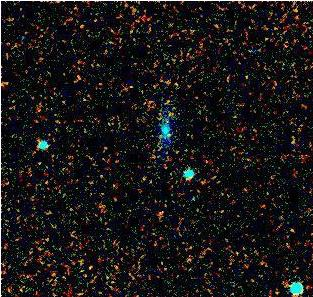star: (153, 115, 183, 145)
